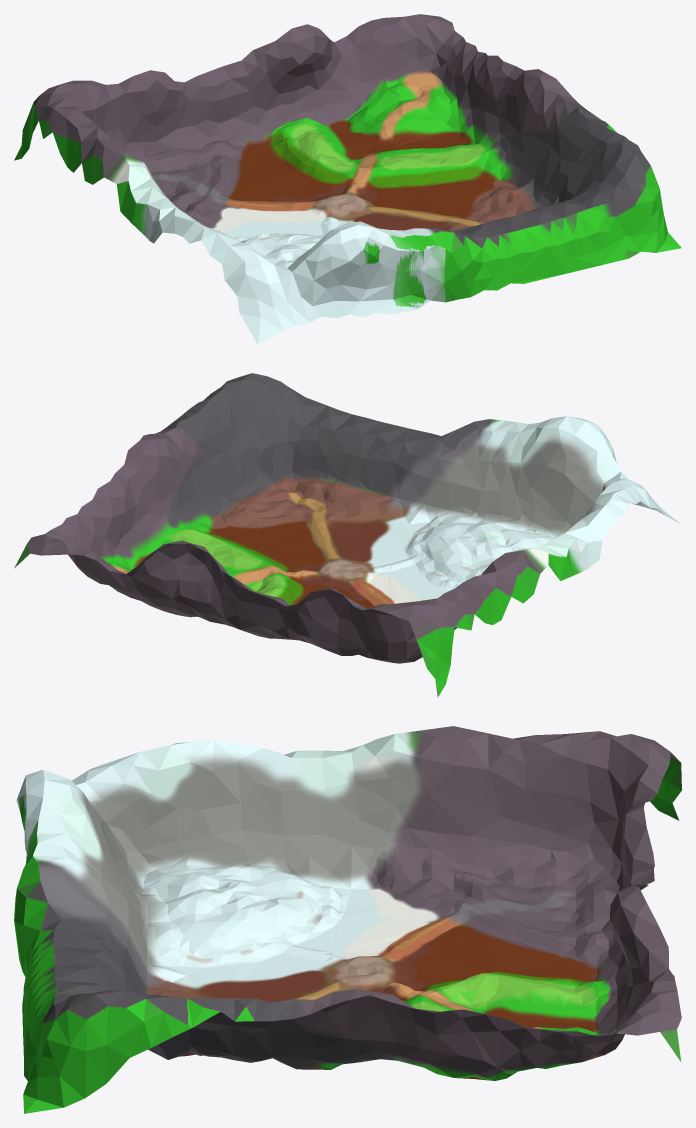
File: map.fbx
The picture shows the model from 3 angles, top to bottom: view 1: azimuth 30°, elevation 25°; view 2: azimuth 150°, elevation 25°; view 3: azimuth 270°, elevation 25°; orthographic projection. The views are drawn at different scales.
Parts seen in each view (by area): view 1: Plane; view 2: Plane; view 3: Plane.
Boxes of the visible parts, x1,y1,x2,y2 form: Plane: (14,14,681,344); Plane: (14,373,681,697); Plane: (14,726,681,1113).
Bounding box in the file's own units: 4559 × 945 × 4489.
